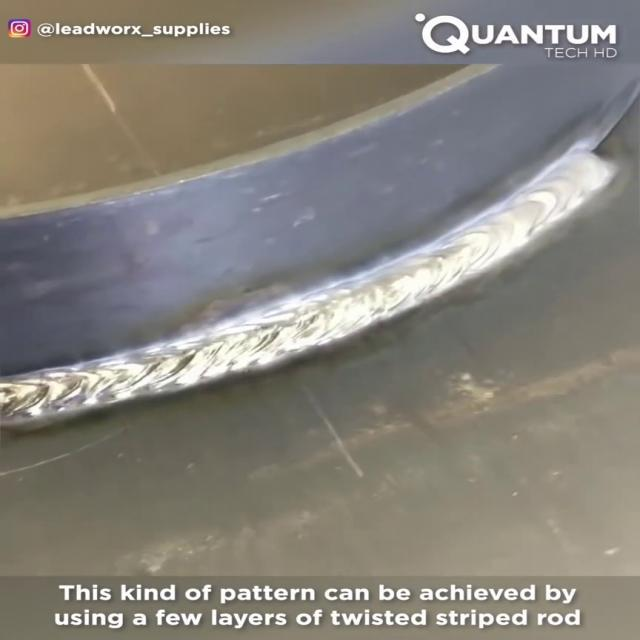Good Weld: (310, 154, 615, 360), (1, 324, 280, 441)
